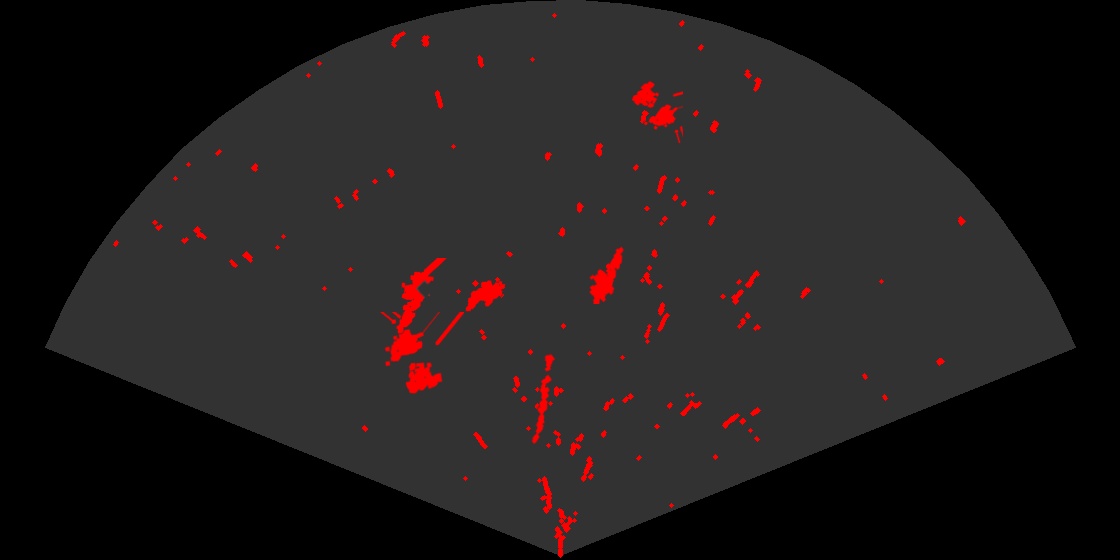AUV: (464, 279, 507, 313)
cage: (378, 312, 464, 395), (630, 79, 683, 143)
chain: (530, 352, 557, 446)
frogman: (395, 258, 448, 335), (588, 245, 625, 304)
